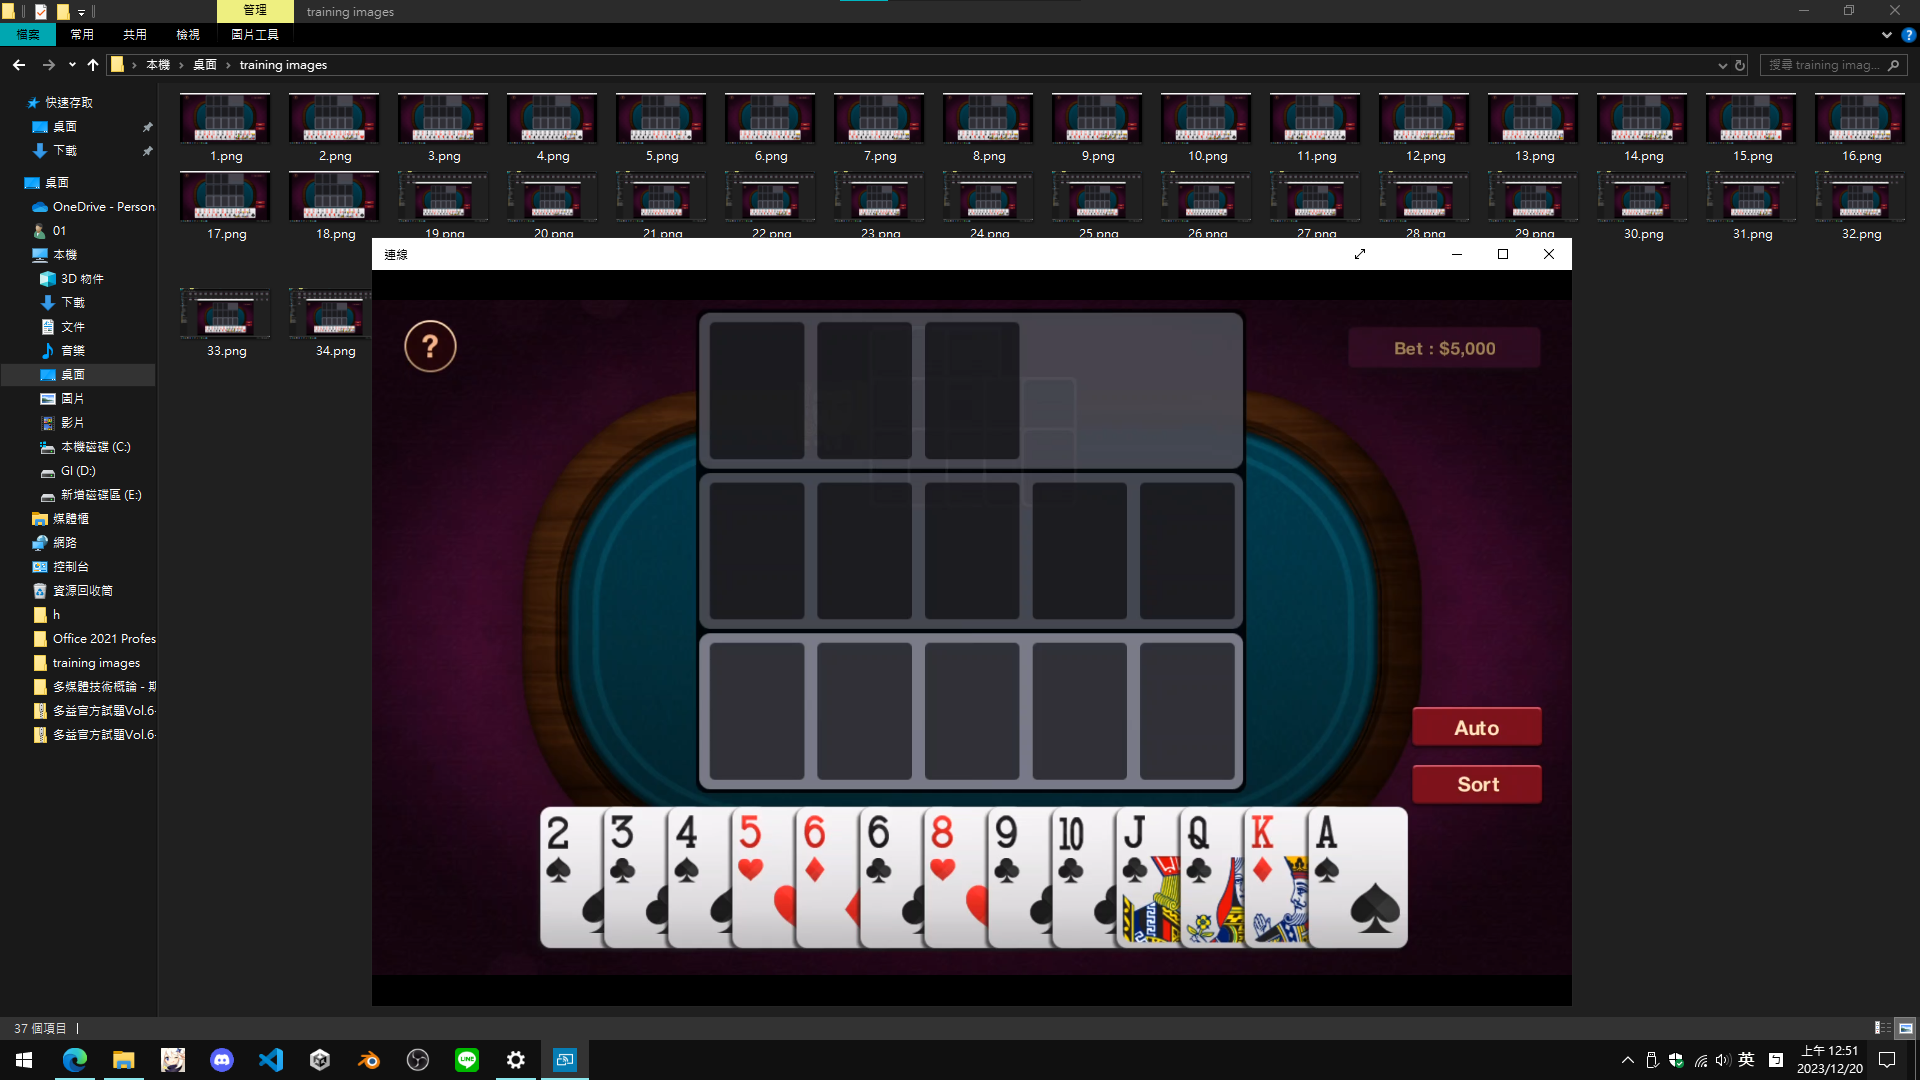10C: (1056, 812, 1087, 889)
2S: (545, 811, 576, 889)
3C: (607, 811, 638, 890)
4S: (673, 810, 704, 889)
5H: (738, 811, 766, 884)
6C: (863, 811, 898, 888)
6D: (801, 810, 830, 889)
8H: (927, 812, 959, 889)
9C: (994, 812, 1022, 888)
AS: (1313, 811, 1344, 889)
JC: (1121, 811, 1151, 885)
KD: (1248, 810, 1278, 885)
QC: (1185, 813, 1214, 888)
